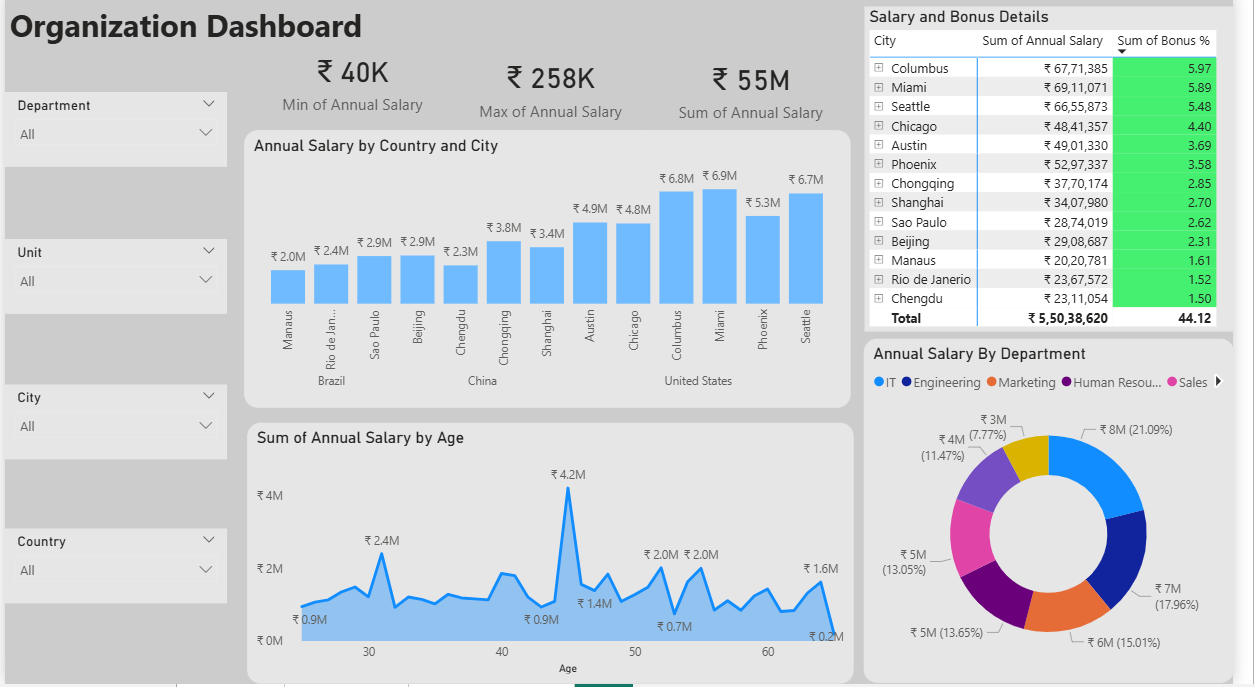

The page's visual inventory and layout, read from the dashboard file:
{"tool":"powerbi","page":{"name":"MALE","canvas":[1280,720],"ordinal":0},"visuals":[{"type":"slicer","fields":{"Values":["TBL_Employees.Gender"]},"box":[1094.1,181.3,86,68.8],"z":0},{"type":"slicer","fields":{"Values":["Department and Units.Department"]},"box":[0,103.2,231.3,78.1],"z":1000},{"type":"card","fields":{"Values":["Min(TBL_Employees.Annual Salary)"]},"box":[250.4,44.3,223.4,94.4],"z":2000},{"type":"card","fields":{"Values":["Max(TBL_Employees.Annual Salary)"]},"box":[473.8,53.7,189.1,89.1],"z":3000},{"type":"card","fields":{"Values":["Sum(TBL_Employees.Annual Salary)"]},"box":[681.6,53.7,190.7,92.2],"z":4000},{"type":"slicer","fields":{"Values":["Department and Units.Unit"]},"box":[0,256.3,231.3,78.1],"z":5000},{"type":"slicer","fields":{"Values":["Country and City.City"]},"box":[0,407.9,231.3,78.1],"z":6000},{"type":"slicer","fields":{"Values":["Country and City.Country"]},"box":[0,558,231.3,78.1],"z":7000},{"type":"clusteredColumnChart","title":"Annual Salary by Country and City","fields":{"Category":["Country and City.Country","Country and City.City"],"Y":["Sum(TBL_Employees.Annual Salary)"]},"box":[248.4,142.5,633.6,290.8],"z":8000},{"type":"donutChart","title":"Annual Salary By Department","fields":{"Category":["Department and Units.Department"],"Y":["Sum(TBL_Employees.Annual Salary)"]},"box":[893.6,360.1,387.1,360.1],"z":9000},{"type":"textbox","box":[0,0,693.3,69.3],"z":10000},{"type":"lineChart","title":"Sum of Annual Salary by Age","fields":{"Category":["TBL_Employees.Age"],"Y":["Sum(TBL_Employees.Annual Salary)"]},"box":[252.3,446.8,633.6,273.5],"z":11000},{"type":"pivotTable","title":"Salary and Bonus Details","fields":{"Rows":["Country and City.City","Country and City.Country"],"Values":["Sum(TBL_Employees.Annual Salary)","Sum(TBL_Employees.Bonus %)"]},"box":[895.5,13.5,385.2,338.9],"z":12000}]}

Visuals, with their boxes in screenshot pixels (x1, y1, x2, y2), scaled from the page's 1280x720 canvas onto the 1255x687 screenshot:
slicer - TBL_Employees.Gender: Rect(1073, 173, 1157, 239)
slicer - Department and Units.Department: Rect(0, 98, 227, 173)
card - Min(TBL_Employees.Annual Salary): Rect(246, 42, 465, 132)
card - Max(TBL_Employees.Annual Salary): Rect(465, 51, 650, 136)
card - Sum(TBL_Employees.Annual Salary): Rect(668, 51, 855, 139)
slicer - Department and Units.Unit: Rect(0, 245, 227, 319)
slicer - Country and City.City: Rect(0, 389, 227, 464)
slicer - Country and City.Country: Rect(0, 532, 227, 607)
"Annual Salary by Country and City" clusteredColumnChart: Rect(244, 136, 865, 413)
"Annual Salary By Department" donutChart: Rect(876, 344, 1254, 686)
textbox: Rect(0, 0, 680, 66)
"Sum of Annual Salary by Age" lineChart: Rect(247, 426, 869, 686)
"Salary and Bonus Details" pivotTable: Rect(878, 13, 1254, 336)
